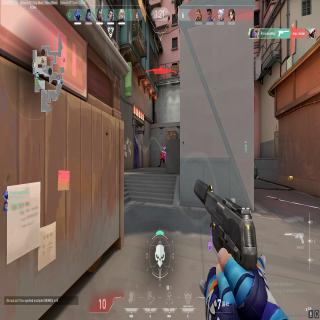ENEMY-HEAD: (163, 147, 166, 150)
